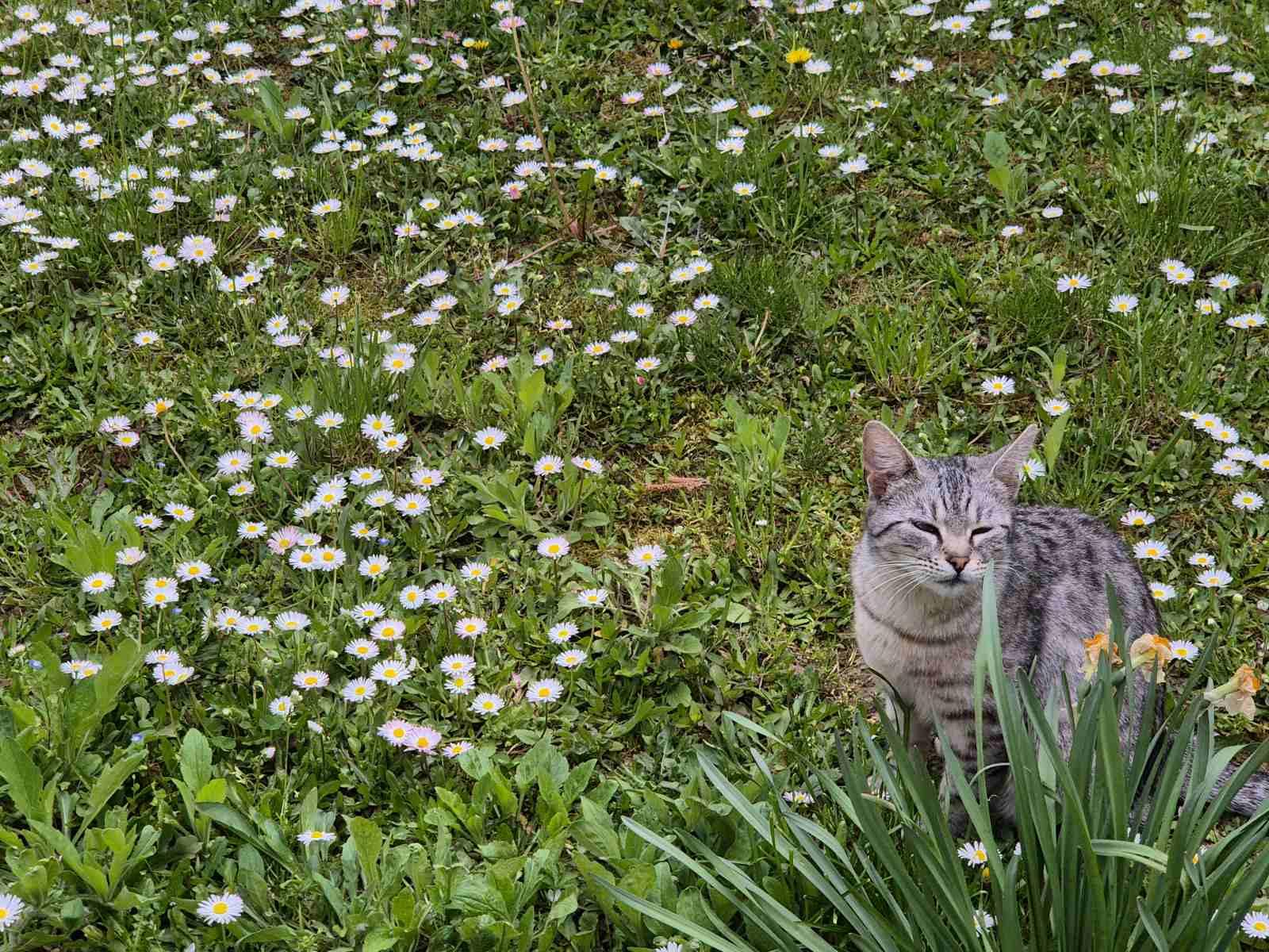macka: (853, 419, 1269, 877)
